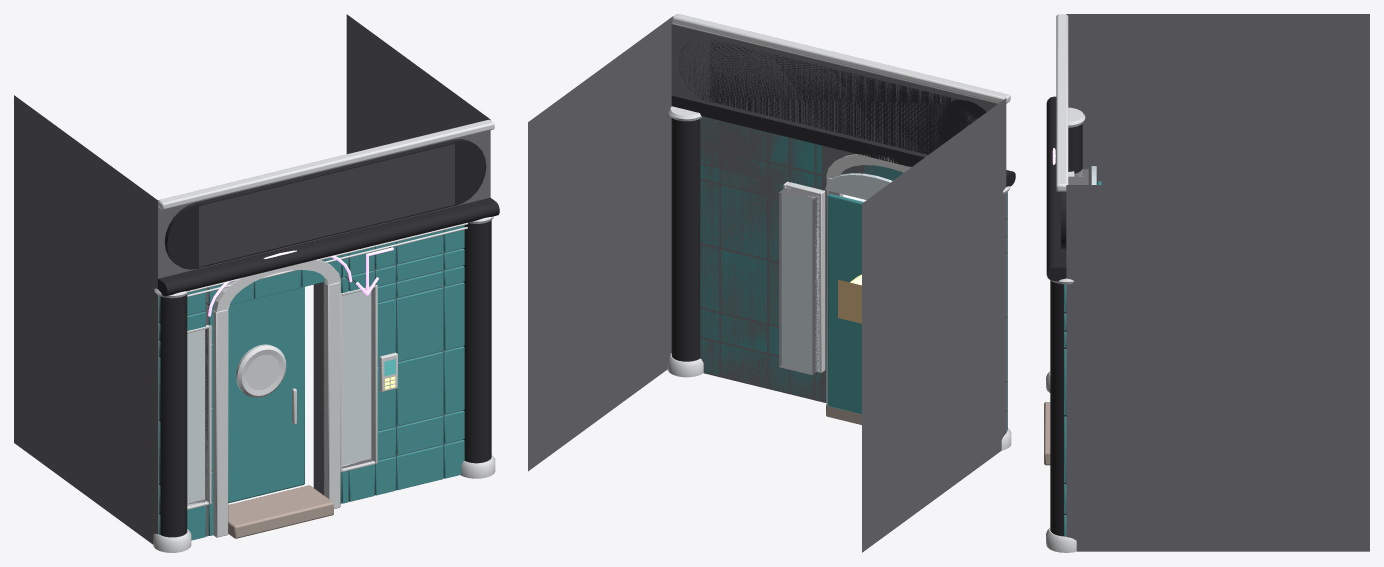
File: retro_doorway_4a.glb
3 renders of one model, left to right at view 1: azimuth 30°, elevation 25°; view 2: azimuth 150°, elevation 25°; view 3: azimuth 270°, elevation 25°, orthographic. The views are drawn at different scales.
Visible parts, largest first — view 1: retro_doorway_4a; view 2: retro_doorway_4a; view 3: retro_doorway_4a.
Part boxes in pixels (x1,y1,x2,y2): retro_doorway_4a: (14,14,499,552); retro_doorway_4a: (528,14,1015,552); retro_doorway_4a: (1044,14,1369,552).
Size of the model in its own units: 4.06 by 4 by 3.22.
